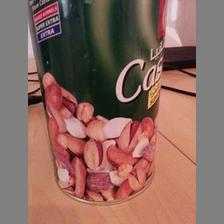Nuss: (26, 0, 166, 204)
